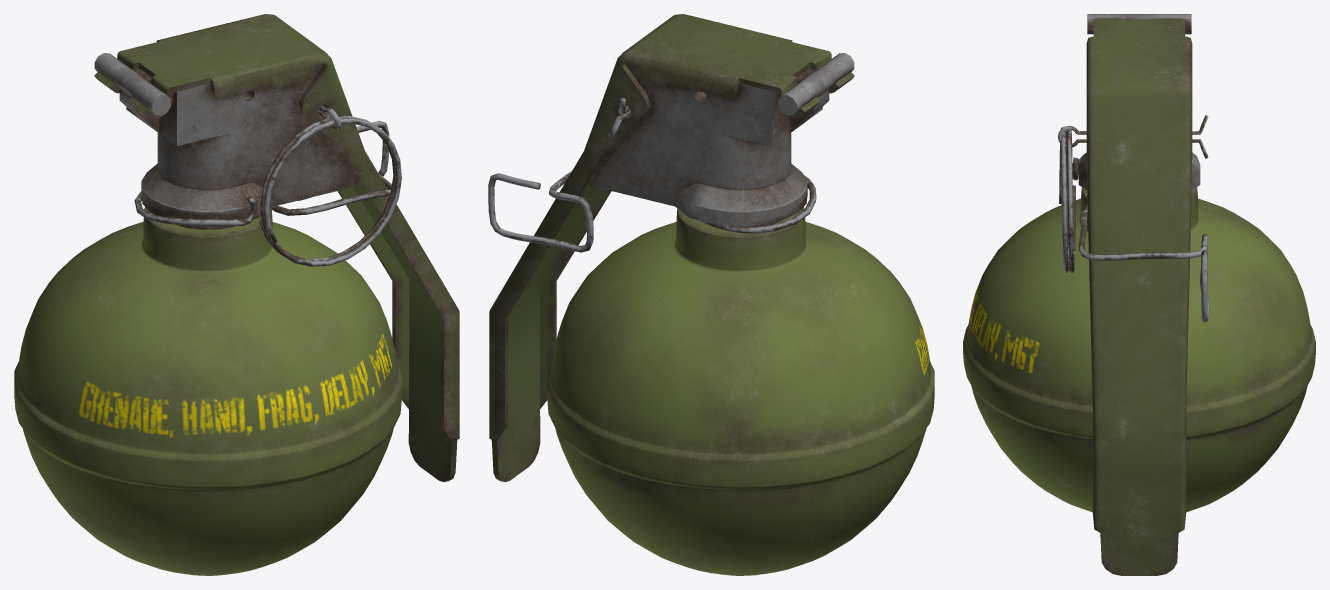
File: m67_grenade_-_low_poly.glb
3 renders of one model, left to right at view 1: azimuth 30°, elevation 25°; view 2: azimuth 150°, elevation 25°; view 3: azimuth 270°, elevation 25°, orthographic. The views are drawn at different scales.
Parts seen in each view (by area): view 1: Corpo, Tampa, Base, Argola, object 5; view 2: Corpo, Tampa, Base, object 5; view 3: Corpo, Tampa, Argola, object 5, Base, Pino.
Part boxes in pixels (<box>): Corpo: <box>14,207,401,575</box>; Tampa: <box>94,14,459,481</box>; Base: <box>94,53,362,229</box>; Argola: <box>259,116,401,266</box>; object 5: <box>134,121,391,225</box>; Corpo: <box>547,207,934,575</box>; Tampa: <box>489,14,854,481</box>; Base: <box>586,53,854,227</box>; object 5: <box>488,171,816,252</box>; Corpo: <box>963,187,1315,512</box>; Tampa: <box>1086,18,1192,575</box>; Argola: <box>1059,127,1075,272</box>; object 5: <box>1072,157,1209,322</box>; Base: <box>1078,14,1200,190</box>; Pino: <box>1058,115,1208,158</box>.
Bounding box in the file's own units: 0.1548 × 0.1859 × 0.1315.
Materials: 6 (6 with a texture image).
